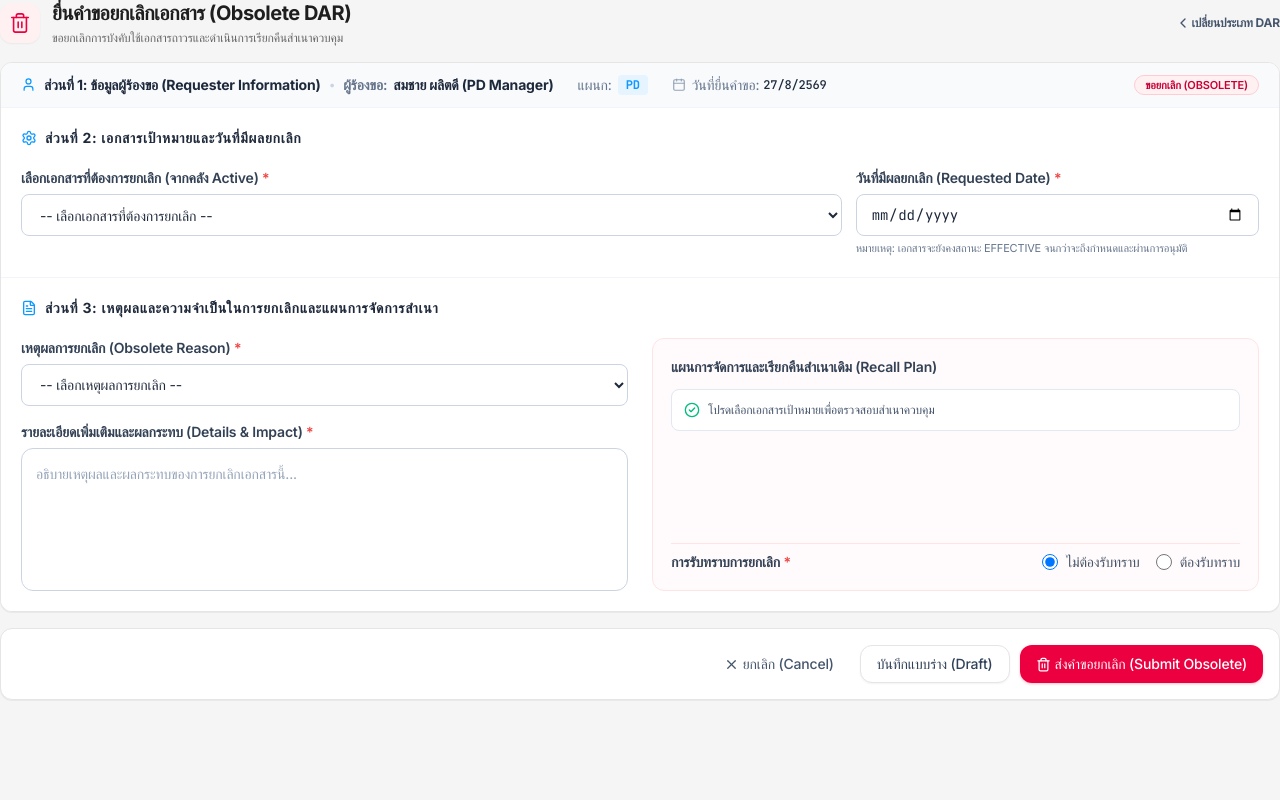
Scenario: Library Universal Audit Scope, Status Normalization & Obsolete Form Sync Tests › 3. DarObsoleteForm Recall Plan Synchronization › shows automated DCC recall notification and does NOT show conflicting "ไม่พบสำเนา" text when copies exist
Note: Select the document with 2 active controlled copies
Select "[SOP-PD-001] ขั้นตอนการผสมวัตถุดิบ (Rev. 01)" in the dropdown below "วันที่มีผลยกเลิก (Requested Date)" at x=431, y=215, box top-left (21, 194), bottom-right (842, 236)
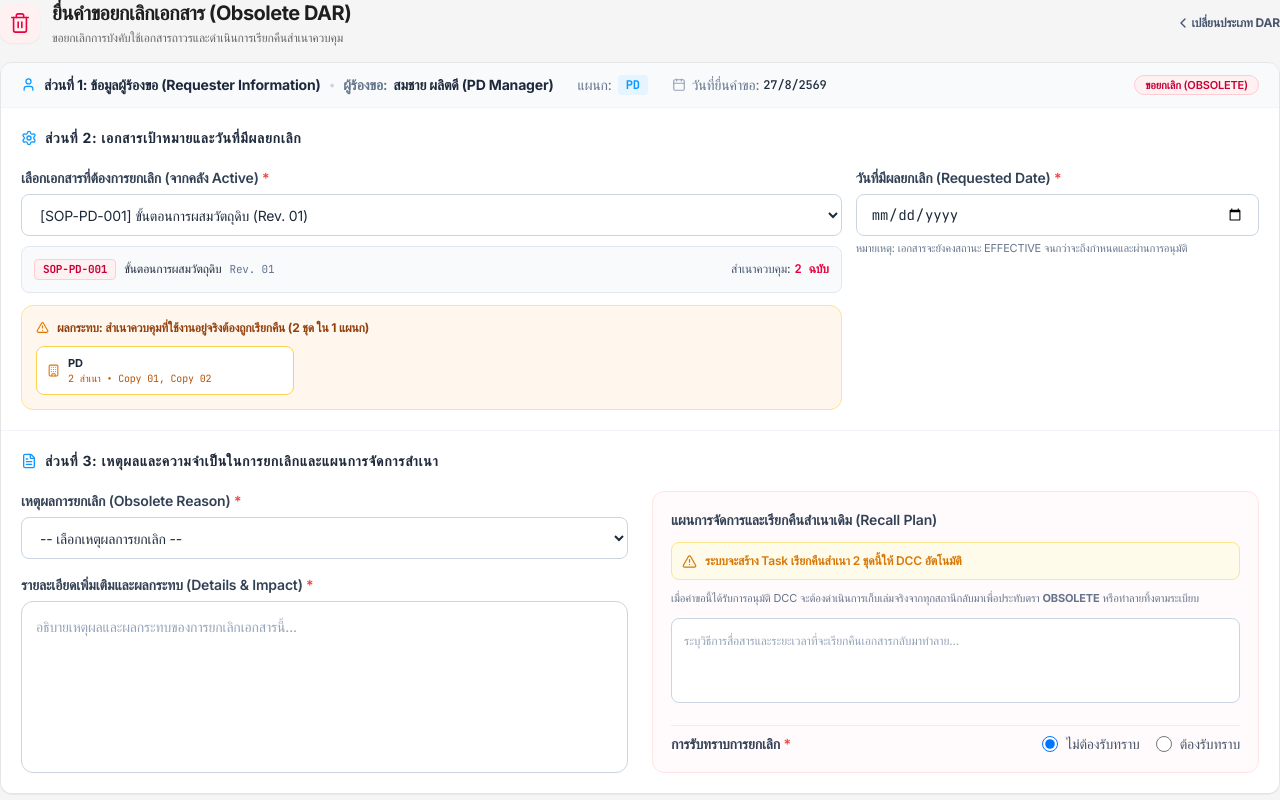
Now the text "2 ฉบับ" is shown, box top-left (795, 262), bottom-right (829, 278)
Now the text "ระบบจะสร้าง Task เรียกคืนสำเนา 2 ชุดนี้ให้ DCC อัตโนมัติ" is shown, box top-left (705, 553), bottom-right (962, 569)
